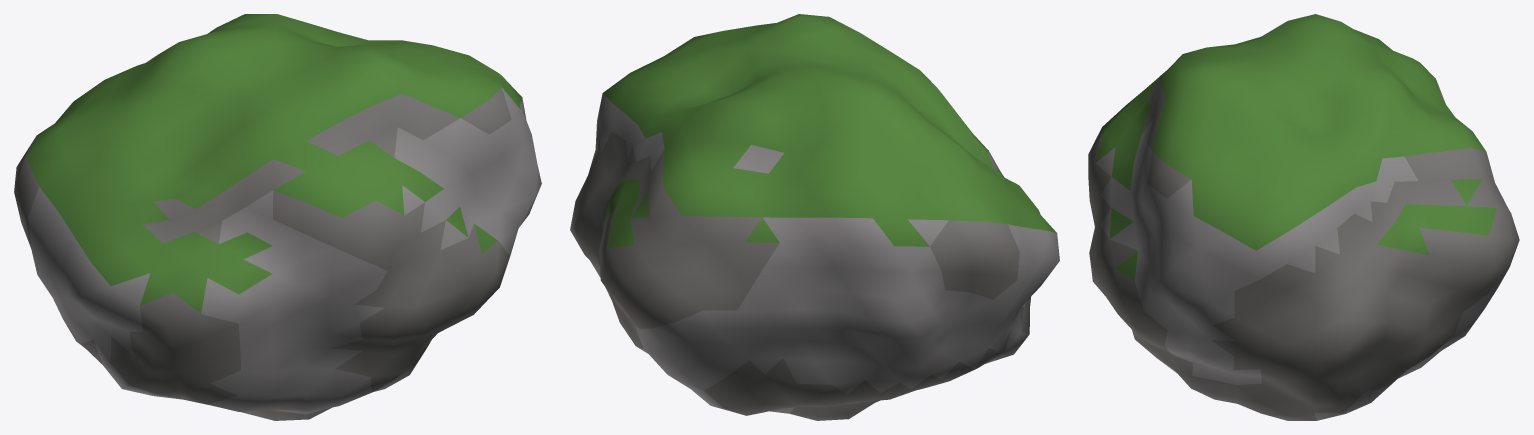
Rendered from mossy_rock_1.glb.
The picture shows the model from 3 angles, left to right: view 1: azimuth 30°, elevation 25°; view 2: azimuth 150°, elevation 25°; view 3: azimuth 270°, elevation 25°; orthographic projection. The views are drawn at different scales.
Parts seen in each view (by area): view 1: mossy_rock_1; view 2: mossy_rock_1; view 3: mossy_rock_1.
Part boxes in pixels (x1,y1,x2,y2): mossy_rock_1: (14, 14, 541, 420); mossy_rock_1: (570, 14, 1059, 420); mossy_rock_1: (1088, 14, 1519, 420).
Size of the model in its own units: 2.08 by 1.59 by 1.77.
